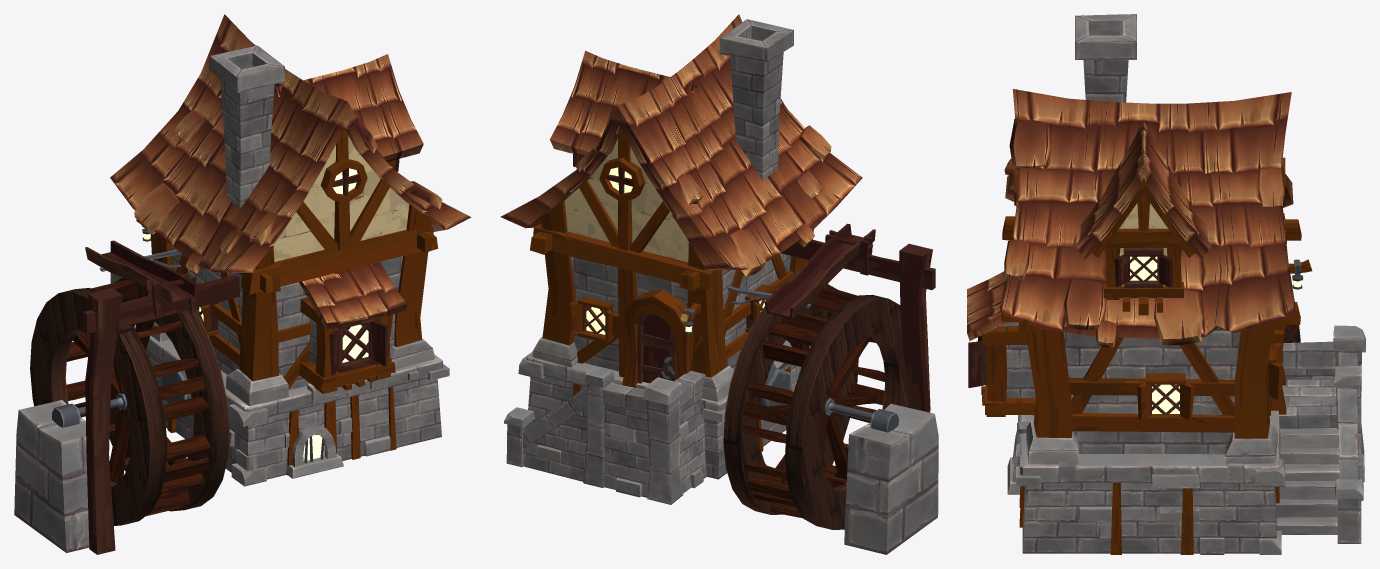
File: NewBuilding.fbx
The picture shows the model from 3 angles, left to right: view 1: azimuth 30°, elevation 25°; view 2: azimuth 150°, elevation 25°; view 3: azimuth 270°, elevation 25°; orthographic projection. The views are drawn at different scales.
Parts seen in each view (by area): view 1: SM_BLD_body_v03_01, SM_BLD_waterwheel, SM_BLD_waterwheel_construct, BP_BLD_house_28, SM_BLD_window_v01_01, SM_BLD_chimney_v01_01, SM_BLD_window_v03_01, SM_BLD_window_v09_04, SM_BLD_window_v07_01_2; view 2: SM_BLD_body_v03_01, SM_BLD_waterwheel, SM_BLD_waterwheel_construct, SM_BLD_stairs_v04_v2, SM_BLD_chimney_v01_01, SM_BLD_window_v03_01, SM_BLD_door_v03_01, BP_BLD_house_28, SM_BLD_window_v08_02_1, SM_BLD_window_v07_01_1, SM_BLD_window_v08_02_3; view 3: SM_BLD_body_v03_01, BP_BLD_house_28, SM_BLD_stairs_v04_v2, SM_BLD_window_v03_01, SM_BLD_window_v01_01, SM_BLD_chimney_v01_01, SM_BLD_window_v08_02_2, SM_BLD_window_v08_02_1, SM_BLD_door_v03_01, SM_BLD_window_v09_04.
Part boxes in pixels (box(x1,y1,x2,y2)): SM_BLD_body_v03_01: box(110, 14, 471, 406); SM_BLD_waterwheel: box(30, 277, 229, 525); SM_BLD_waterwheel_construct: box(14, 240, 239, 554); BP_BLD_house_28: box(134, 324, 449, 486); SM_BLD_window_v01_01: box(298, 262, 406, 393); SM_BLD_chimney_v01_01: box(209, 45, 284, 208); SM_BLD_window_v03_01: box(274, 54, 423, 171); SM_BLD_window_v09_04: box(286, 424, 343, 478); SM_BLD_window_v07_01_2: box(320, 158, 367, 202); SM_BLD_body_v03_01: box(500, 14, 862, 401); SM_BLD_waterwheel: box(723, 284, 910, 529); SM_BLD_waterwheel_construct: box(727, 223, 938, 554); SM_BLD_stairs_v04_v2: box(504, 367, 706, 504); SM_BLD_chimney_v01_01: box(719, 19, 793, 180); SM_BLD_window_v03_01: box(550, 50, 698, 166); SM_BLD_door_v03_01: box(622, 289, 693, 387); BP_BLD_house_28: box(518, 340, 810, 479); SM_BLD_window_v08_02_1: box(569, 296, 614, 342); SM_BLD_window_v07_01_1: box(599, 157, 645, 201); SM_BLD_window_v08_02_3: box(745, 284, 778, 332); SM_BLD_body_v03_01: box(1000, 89, 1301, 464); BP_BLD_house_28: box(1016, 410, 1285, 554); SM_BLD_stairs_v04_v2: box(1276, 325, 1365, 543); SM_BLD_window_v03_01: box(1075, 120, 1211, 315); SM_BLD_window_v01_01: box(967, 271, 1035, 416); SM_BLD_chimney_v01_01: box(1075, 14, 1136, 102); SM_BLD_window_v08_02_2: box(1137, 373, 1194, 421); SM_BLD_window_v08_02_1: box(1268, 343, 1282, 399); SM_BLD_door_v03_01: box(1271, 324, 1286, 414); SM_BLD_window_v09_04: box(1007, 431, 1020, 494).
Size of the model in its own units: 1084 by 1278 by 912.
